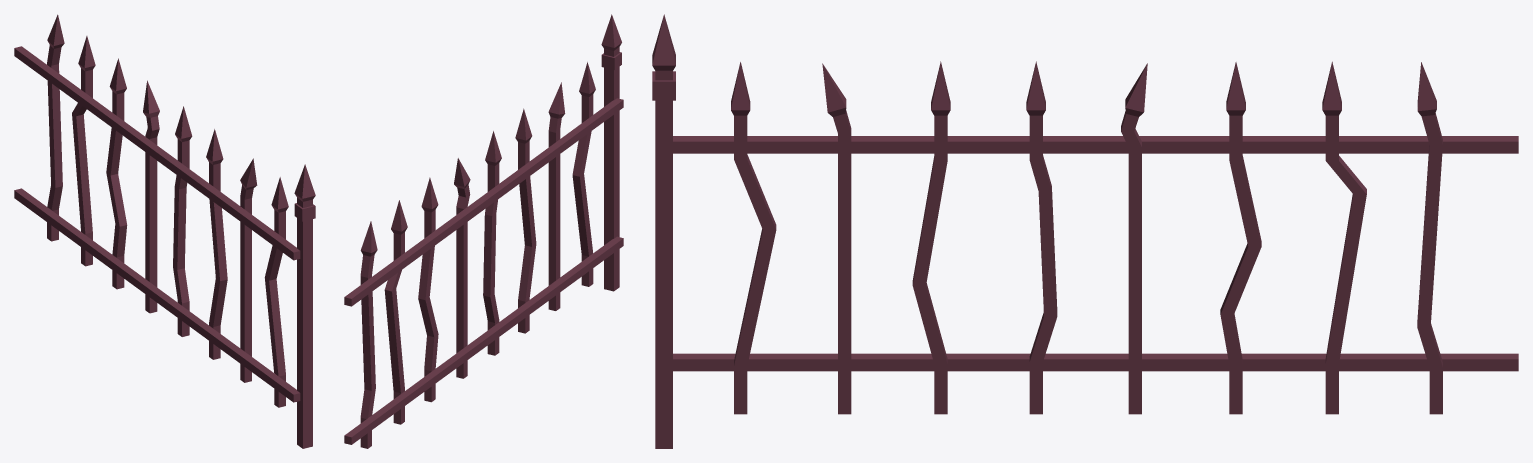
File: fence.fbx
The picture shows the model from 3 angles, left to right: view 1: azimuth 30°, elevation 25°; view 2: azimuth 150°, elevation 25°; view 3: azimuth 270°, elevation 25°; orthographic projection. The views are drawn at different scales.
Visible parts, largest first — view 1: Cube.010; view 2: Cube.010; view 3: Cube.010.
Boxes of the visible parts, <box> form: Cube.010: <box>14,14,315,448</box>; Cube.010: <box>344,14,623,448</box>; Cube.010: <box>652,14,1518,448</box>.
Size of the model in its own units: 27.7 by 400 by 729.
